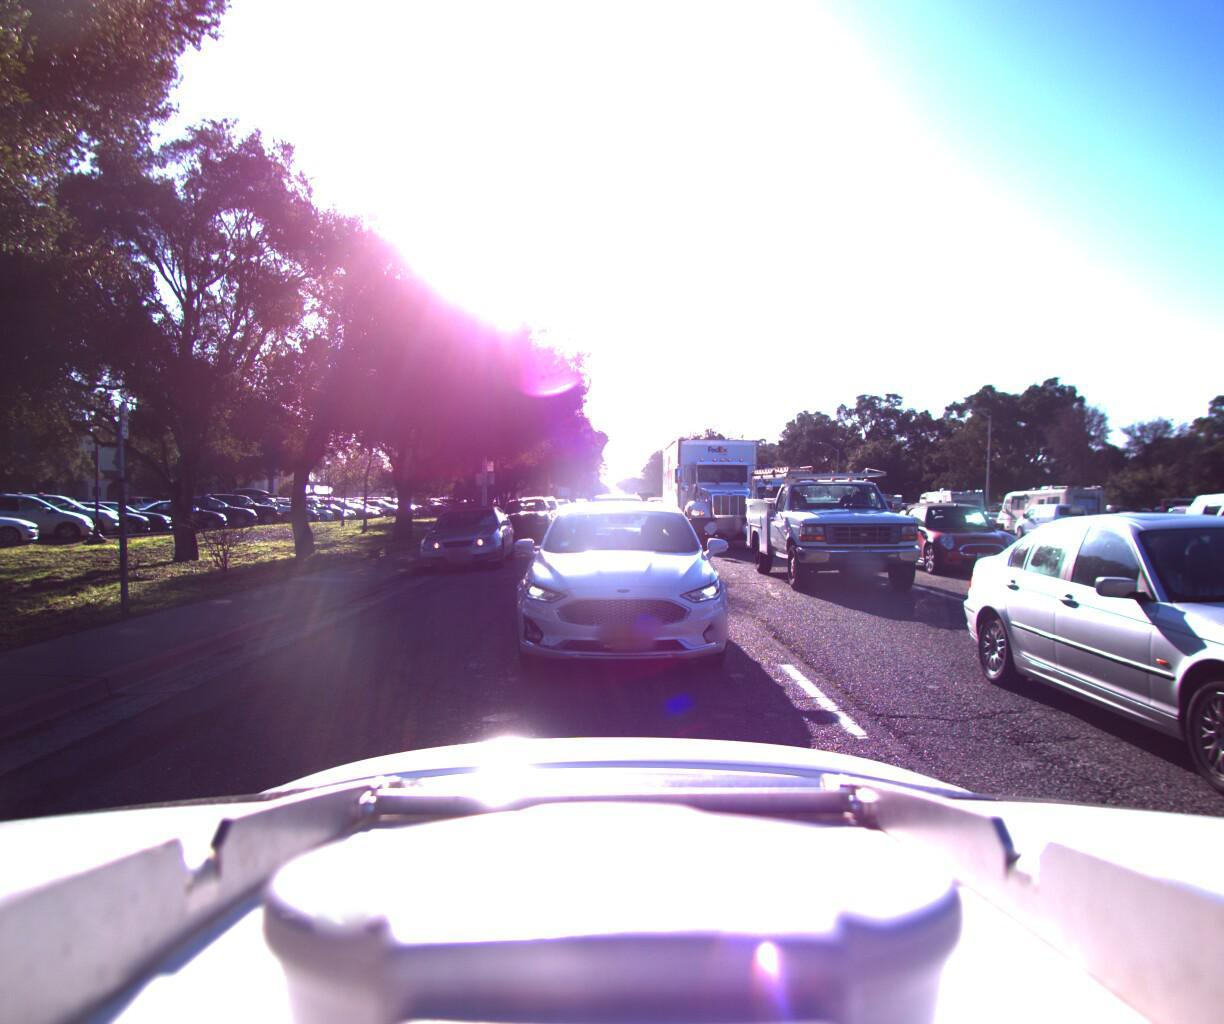car: (967, 505, 1224, 912), (495, 496, 736, 702), (741, 455, 939, 598), (1164, 476, 1224, 720), (884, 499, 1030, 578), (560, 494, 661, 587), (411, 501, 519, 571), (733, 465, 798, 530), (1147, 501, 1224, 551), (1084, 506, 1177, 542), (998, 499, 1078, 537), (502, 493, 554, 543), (961, 507, 1016, 530), (637, 493, 668, 518), (631, 487, 651, 510)
other_vehicle: (989, 480, 1126, 537), (912, 483, 991, 526), (847, 485, 905, 521)
truck: (654, 428, 781, 552)
